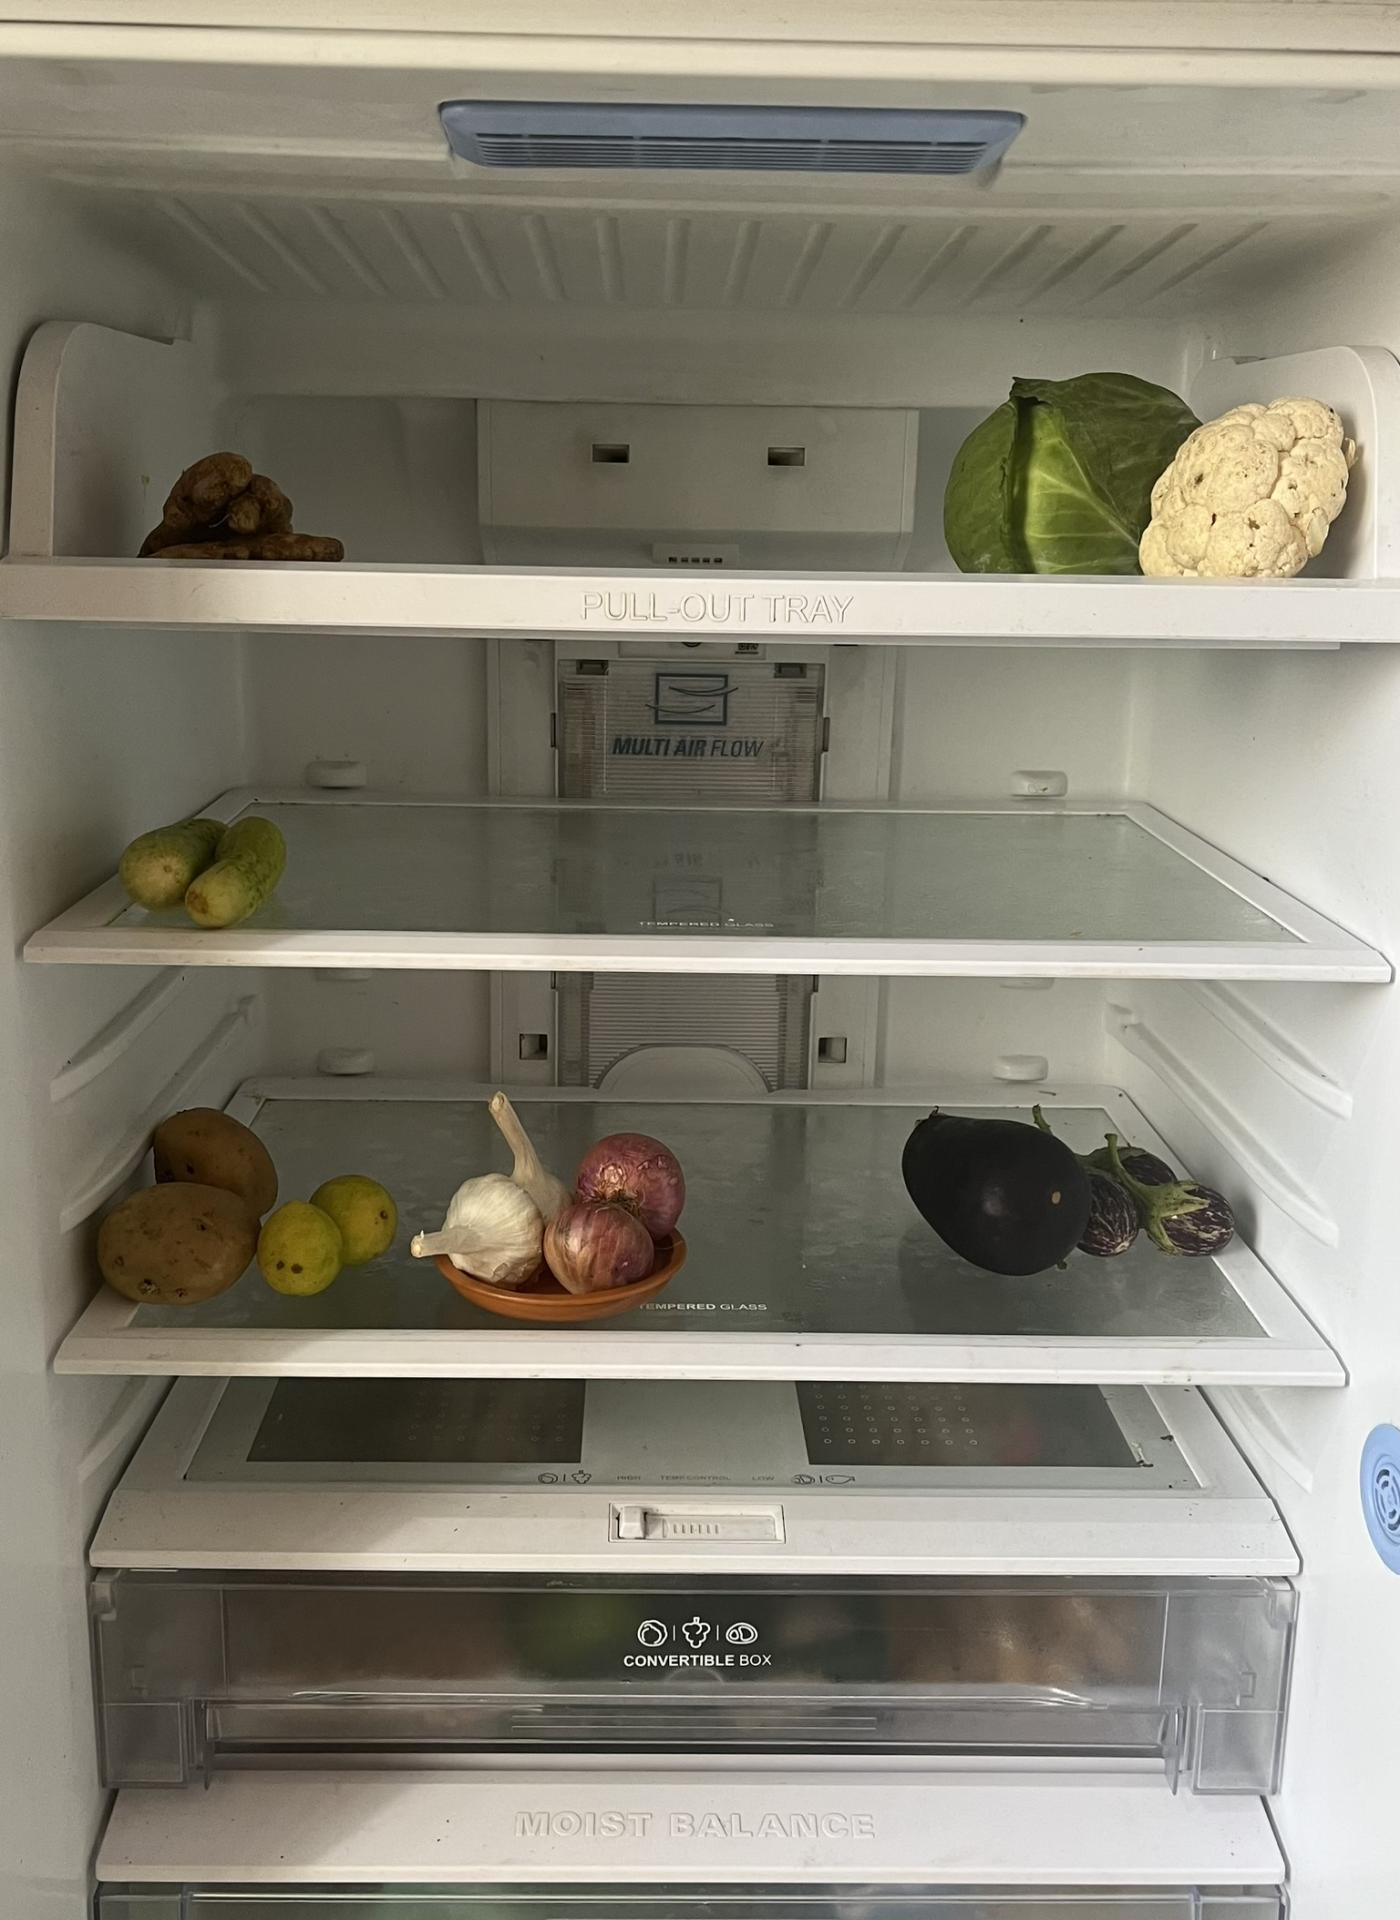brinjal: (909, 1108, 1090, 1279), (1073, 1136, 1233, 1267)
cabbage: (939, 371, 1188, 577)
cauliflower: (1141, 395, 1352, 587)
cucumber: (125, 805, 282, 929)
garlic: (417, 1088, 505, 1254)
ginger: (148, 446, 350, 568)
lemon: (262, 1170, 397, 1294)
onion: (550, 1136, 690, 1295)
potato: (101, 1111, 267, 1306)
